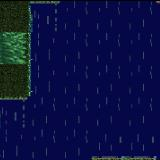Interaction: (20, 0, 38, 87), (0, 87, 38, 108), (38, 0, 62, 7)
Slow: (33, 4, 160, 100), (0, 100, 160, 160), (0, 32, 28, 63)
